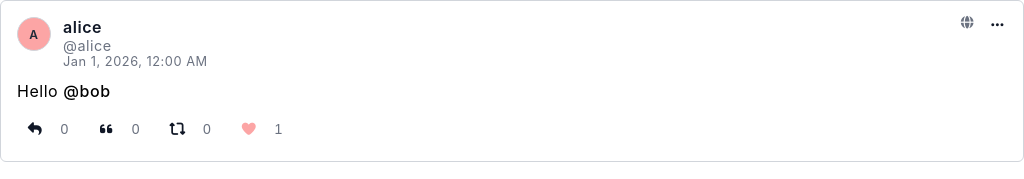
ActivityCard › unlikes a liked activity and drops the counter
This screenshot has width=1024, height=179.
Click the button named "Unlike". click: (249, 129)
box: x1=231 y1=113 x2=266 y2=145
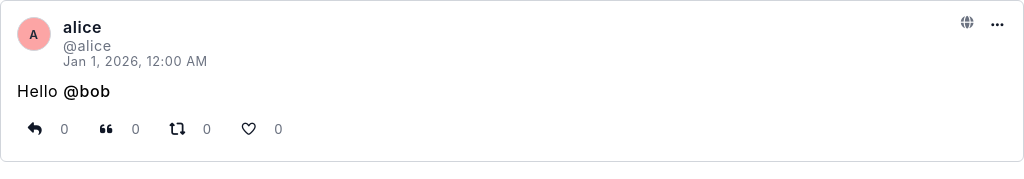
Expected: the 4th button with class "activity-card__count" reads "0", x1=266 y1=117 x2=290 y2=141
